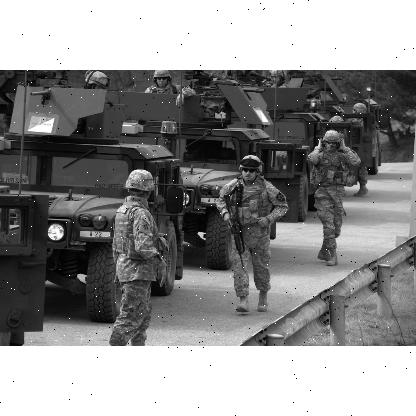gun: (224, 186, 242, 266)
